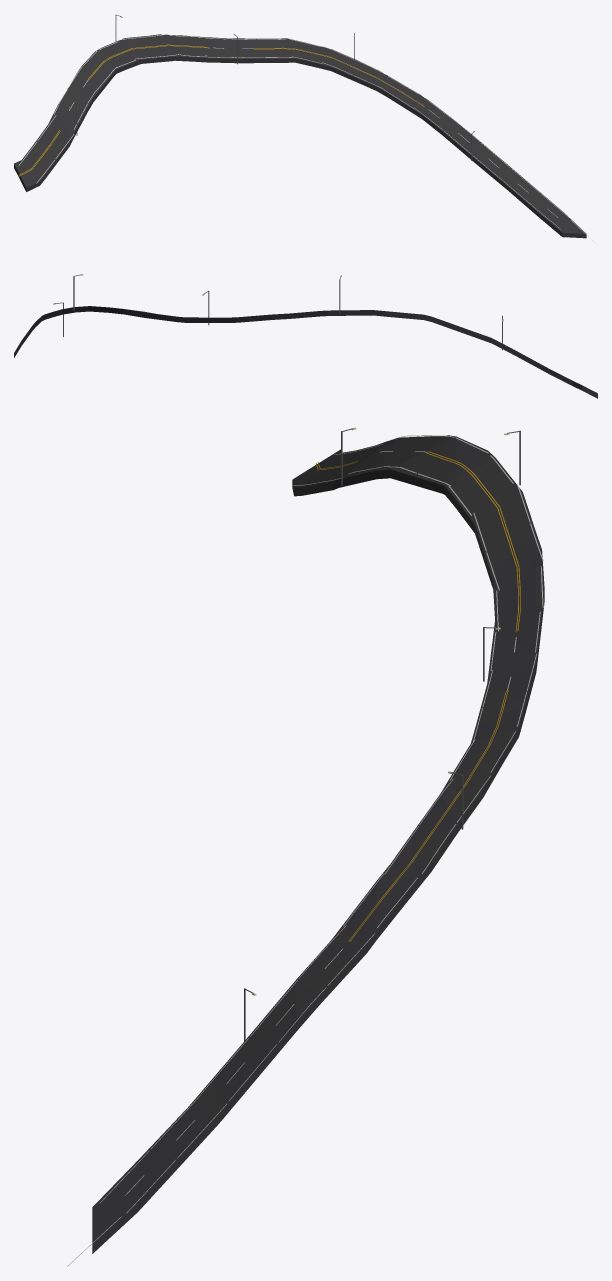
The model's file is 17-109434-59438.c2da9bde.glb.
3 views of the same model, one above another, from view 1: azimuth 30°, elevation 25°; view 2: azimuth 150°, elevation 25°; view 3: azimuth 270°, elevation 25° (orthographic). The views are drawn at different scales.
Bounding box in the file's own units: 150 × 65.89 × 59.95.
